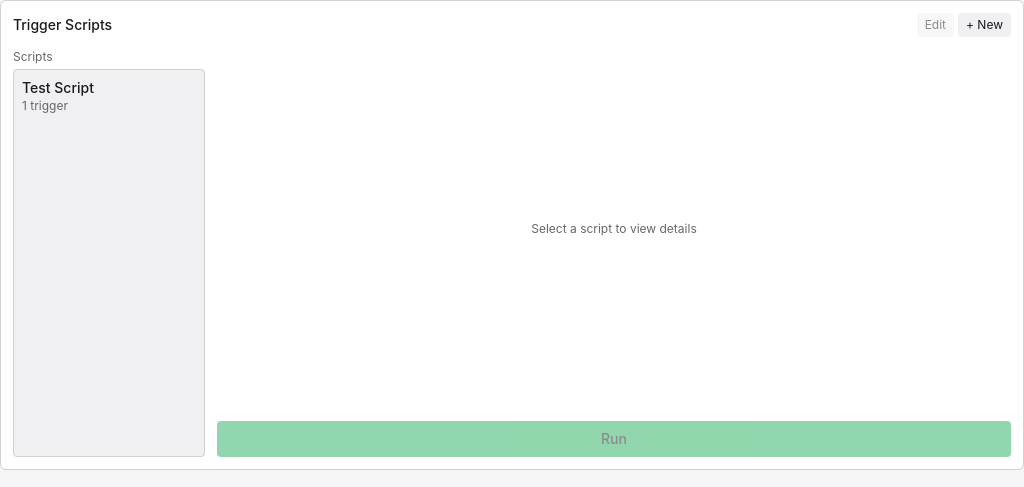
Test: TriggerScriptPanel › Edit Mode › should enter edit mode when Edit button is clicked
Note: Select the script first
Click the text "Test Script": point(58, 88) top-left (22, 79), bottom-right (94, 96)
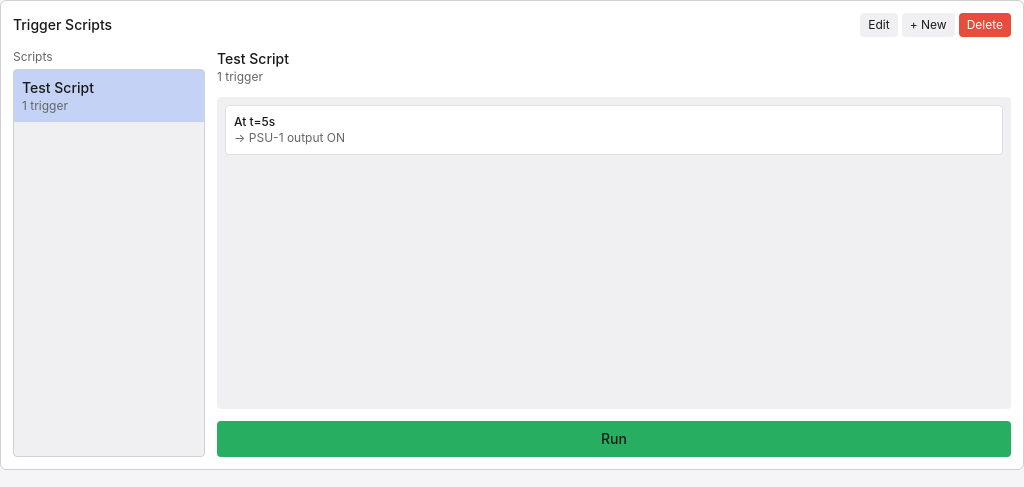
Note: Click Edit button
Click the button "Edit": point(879, 25) top-left (860, 13), bottom-right (898, 37)
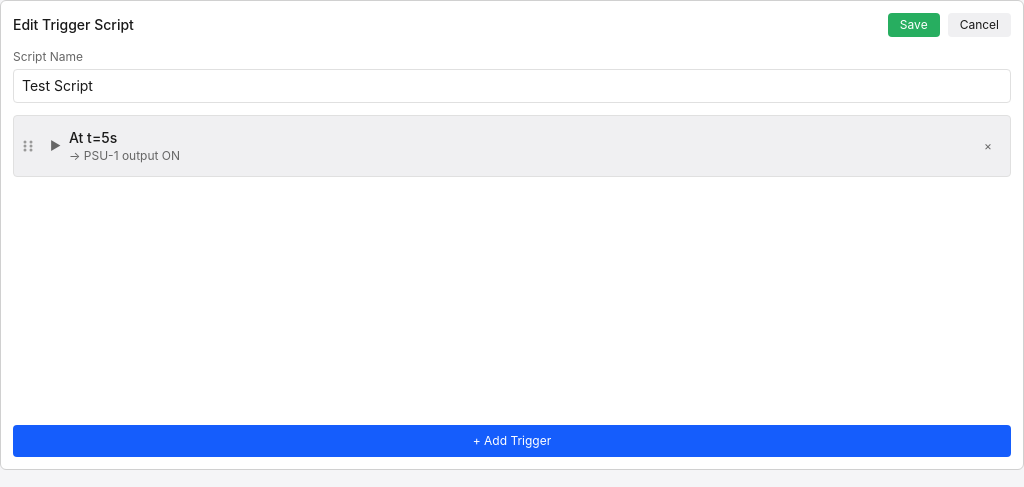
Expected: the heading "Edit Trigger Script" is shown, top-left (13, 15), bottom-right (134, 35)
